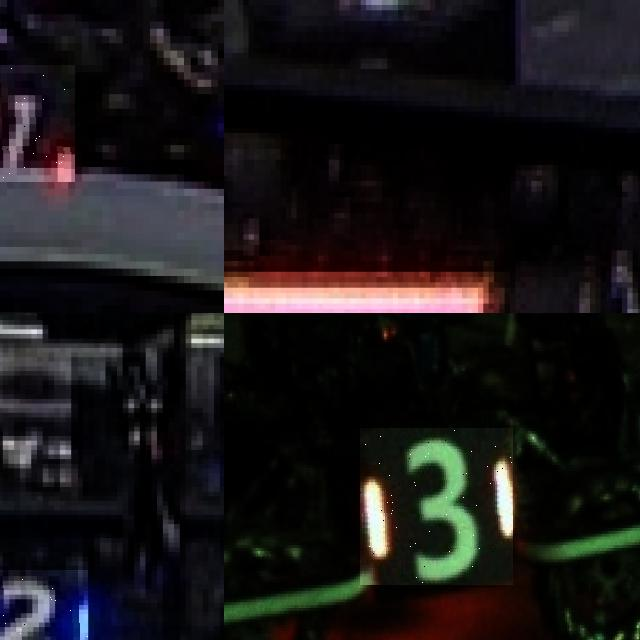B2: (0, 570, 88, 640)
R1: (0, 65, 74, 181)
R3: (360, 428, 513, 585), (579, 229, 640, 313)
